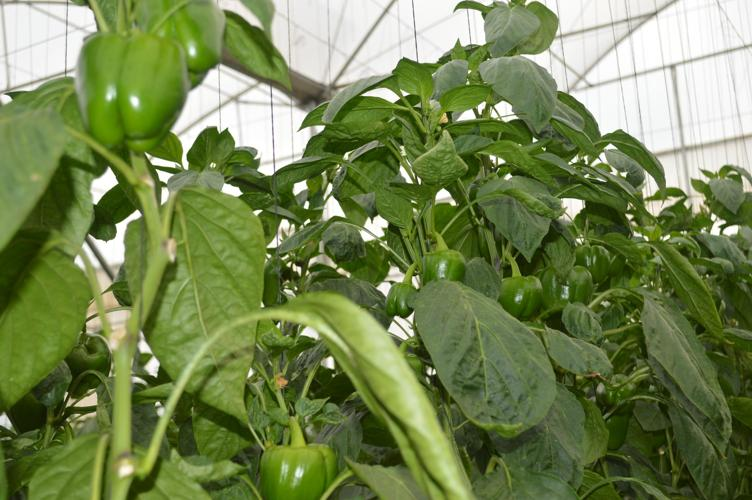BellPepper: (74, 37, 183, 152), (147, 3, 222, 69), (254, 445, 333, 500), (537, 269, 591, 310), (494, 274, 538, 322), (420, 247, 464, 279), (573, 247, 609, 285), (382, 282, 412, 317)
